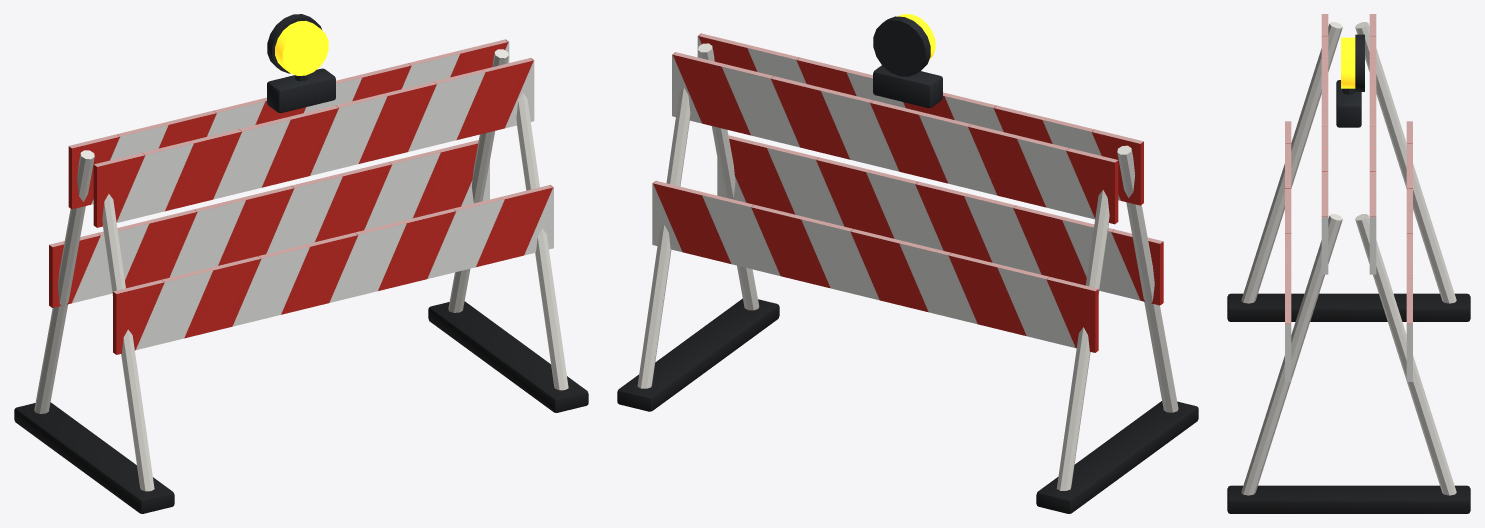
The model's file is road-barrier.glb.
3 renders of one model, left to right at view 1: azimuth 30°, elevation 25°; view 2: azimuth 150°, elevation 25°; view 3: azimuth 270°, elevation 25°, orthographic. The views are drawn at different scales.
Parts seen in each view (by area): view 1: Road_Barrier; view 2: Road_Barrier; view 3: Road_Barrier.
Part boxes in pixels (left/top/right/bottom): Road_Barrier: left=14, top=14, right=588, bottom=513; Road_Barrier: left=617, top=14, right=1198, bottom=513; Road_Barrier: left=1227, top=14, right=1470, bottom=513.
Size of the model in its own units: 1.54 by 1.29 by 0.76.
5 materials, 1 textured.
